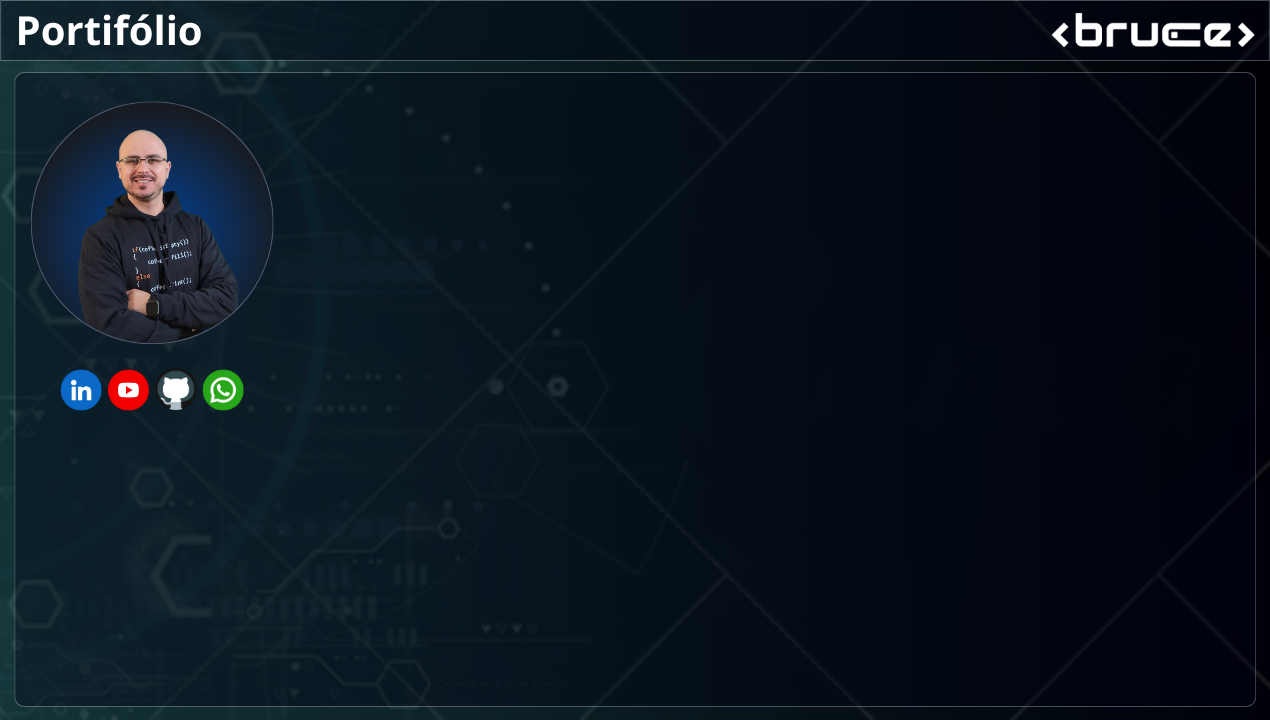

This screenshot's page, from the dashboard's own definition file:
{"tool":"powerbi","page":{"name":"Página 1","canvas":[1280,720],"ordinal":0},"visuals":[{"type":"textbox","box":[31.9,426.5,608.3,275.8],"z":0},{"type":"textbox","box":[325.4,117.9,314.8,287.3],"z":1},{"type":"image","box":[665,86,615.4,595],"z":2}]}

Visuals, with their boxes in screenshot pixels (x1, y1, x2, y2), scaled from the page's 1280x720 canvas onto the 1270x720 screenshot:
textbox: BBox(32, 426, 635, 702)
textbox: BBox(323, 118, 635, 405)
image: BBox(660, 86, 1269, 681)
